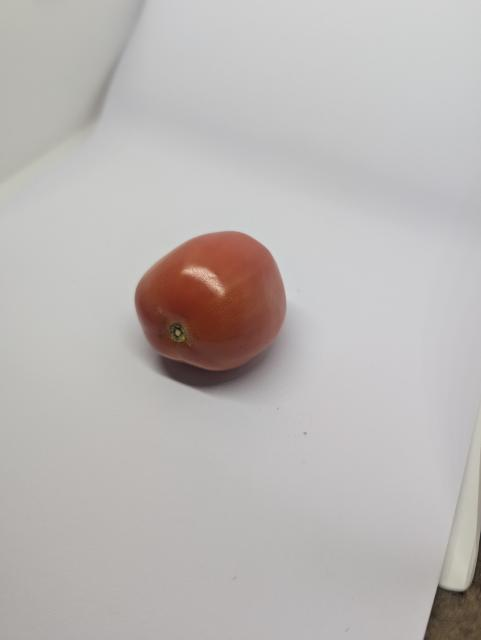red: (126, 225, 299, 387)
